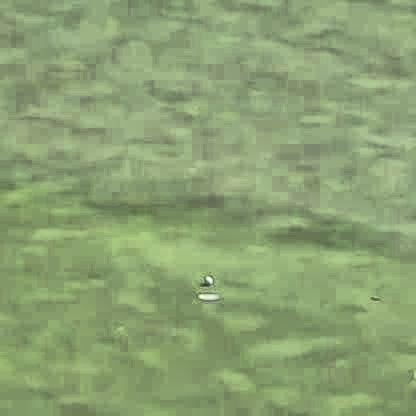golfball: (202, 271, 212, 281)
